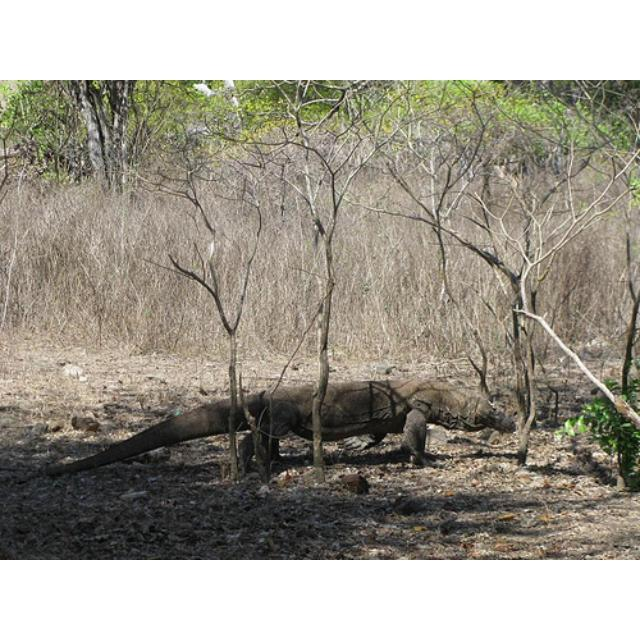KomodoDragon: (19, 375, 520, 469)
